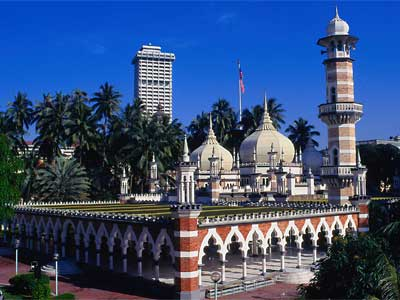Mosque: (181, 100, 302, 195)
